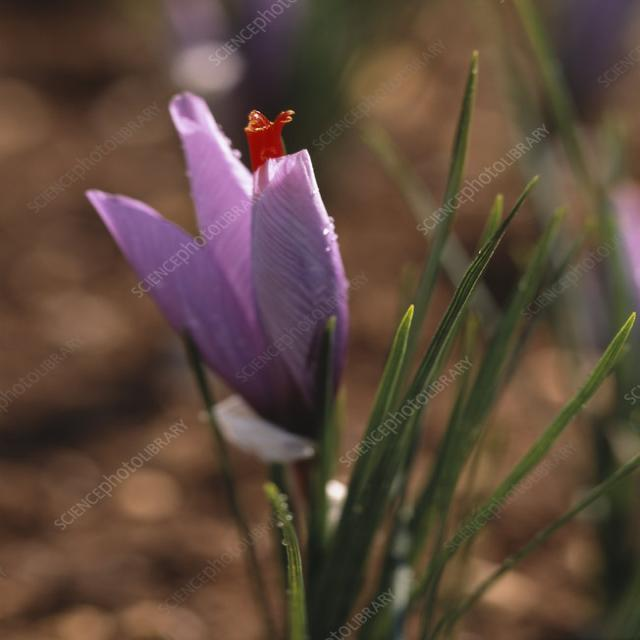Flower: (82, 88, 379, 458)
stigma: (234, 106, 312, 175)
